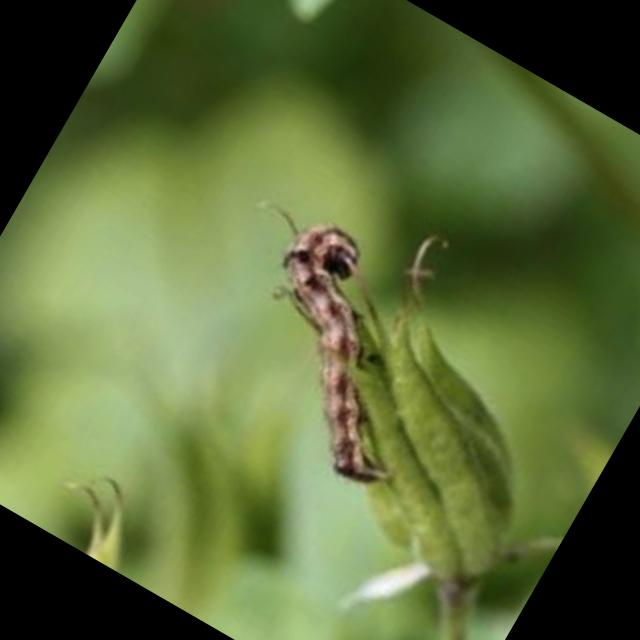Cotton bollworm: (148, 147, 518, 520)
